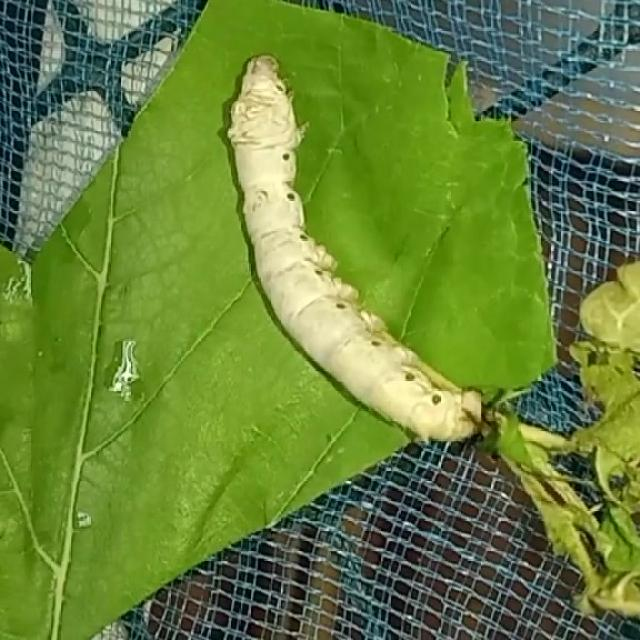Grasserie: (196, 31, 512, 474)
